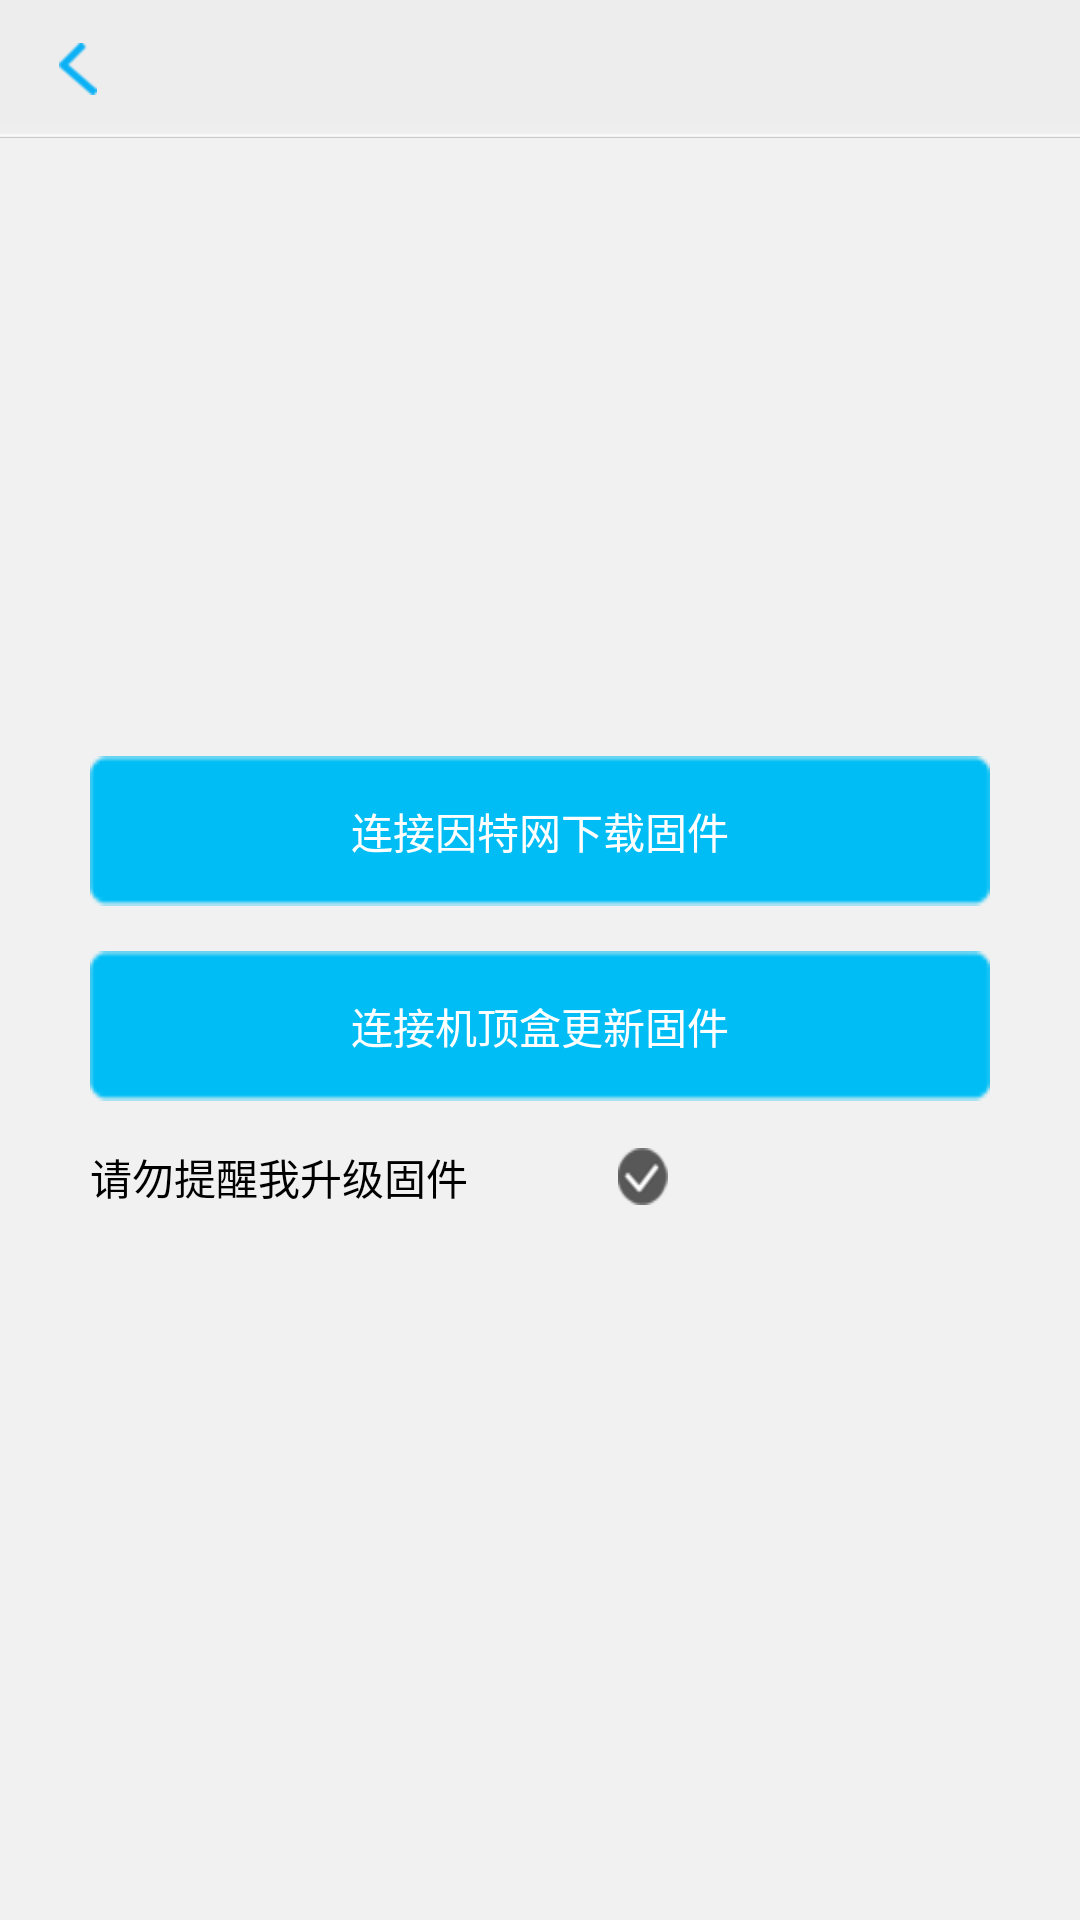

Locate icon controls on the screen. Image size 1080w x 1920h, boxes as (x1, y1, x2, y2).
bnt back nor: (59, 43, 97, 95)
